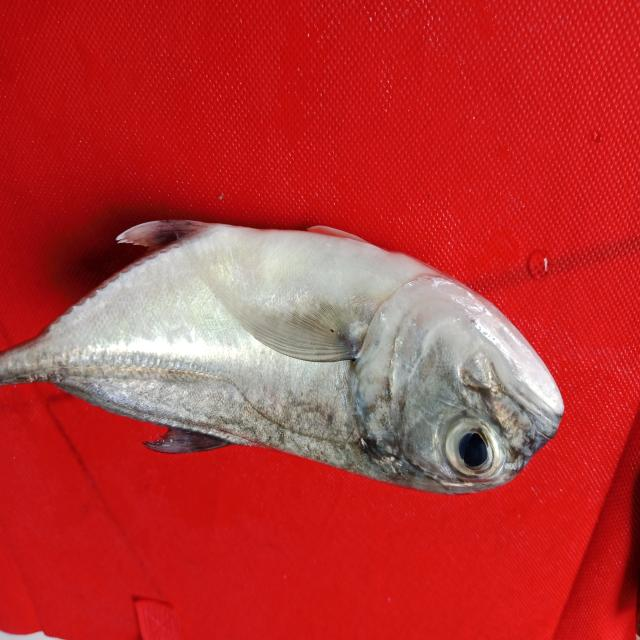ikan: (14, 182, 577, 517)
